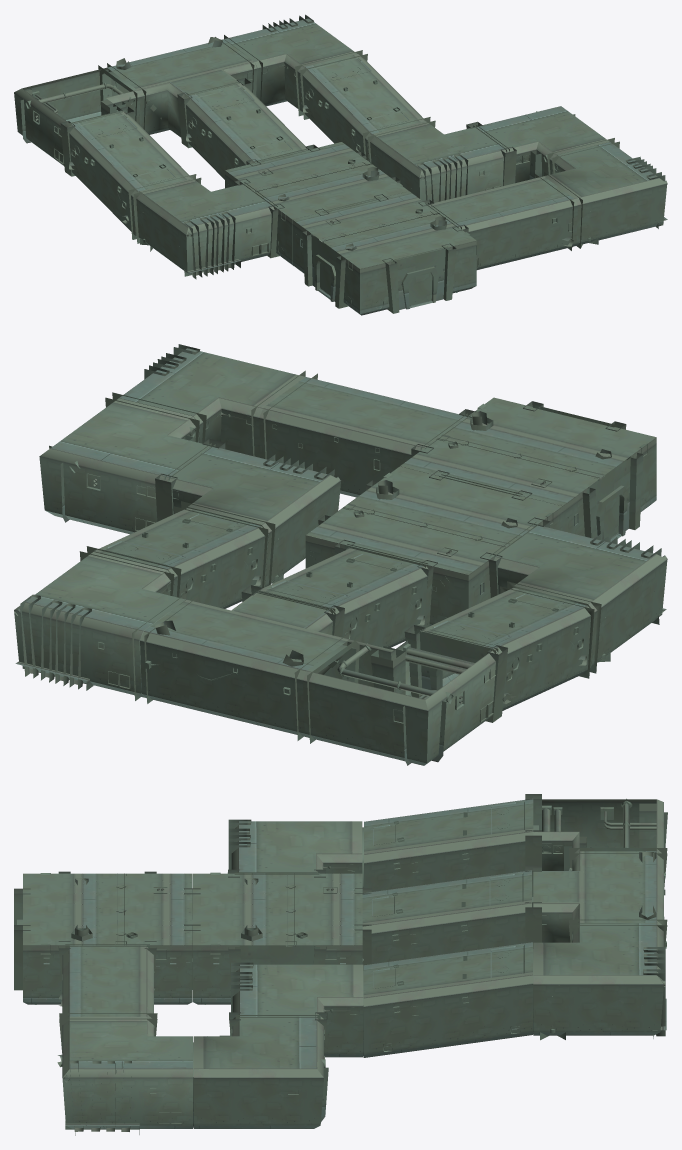
The model's file is Combined_Mesh_root_scene__6_2d4a9e78__zombies2_diffuse_09_d56e2e54_c1f257.obj.
3 views of the same model, one above another, from view 1: azimuth 30°, elevation 25°; view 2: azimuth 150°, elevation 25°; view 3: azimuth 270°, elevation 25° (orthographic). The views are drawn at different scales.
Size of the model in its own units: 71.92 by 12.27 by 77.15.
201 materials, 201 textured.
